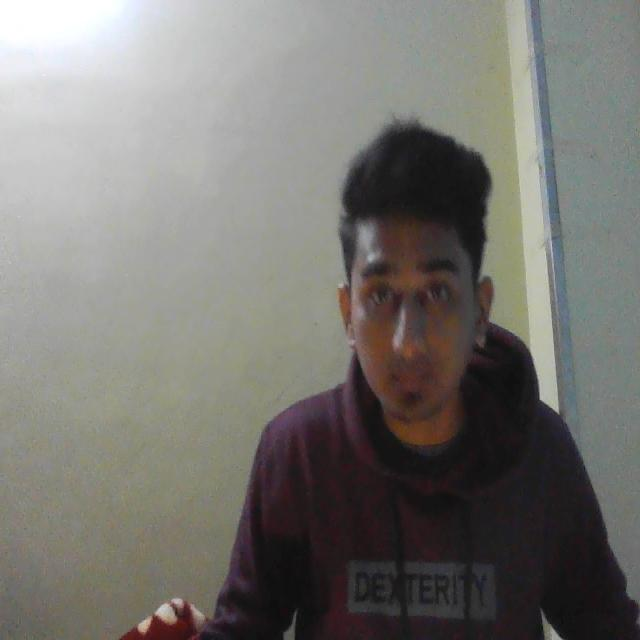real: (336, 136, 501, 448)
